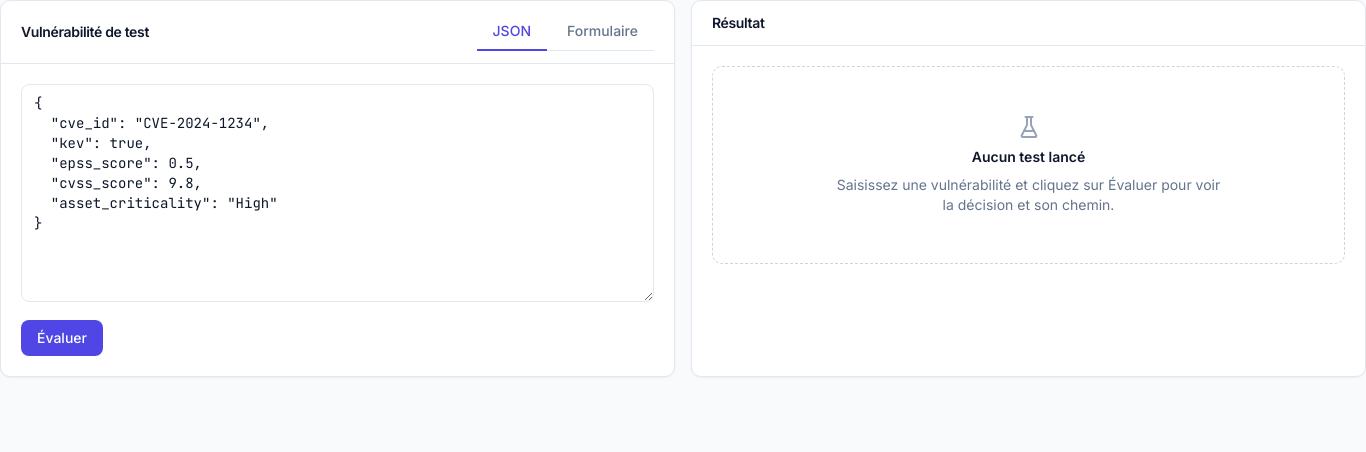
it: QuickTest › affiche une Alert sur JSON invalide sans appeler l API
This screenshot has width=1366, height=452.
Replace the text in the text box with "pas du json" at (338, 193), box [21, 84, 654, 302]
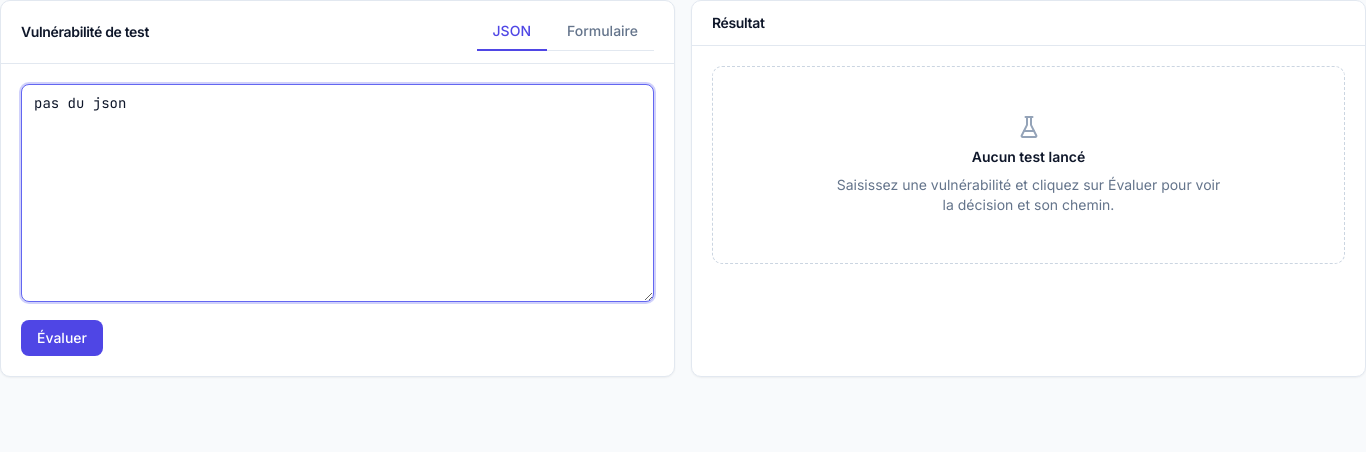
Click the button "Évaluer" at (62, 338), box [21, 320, 103, 356]
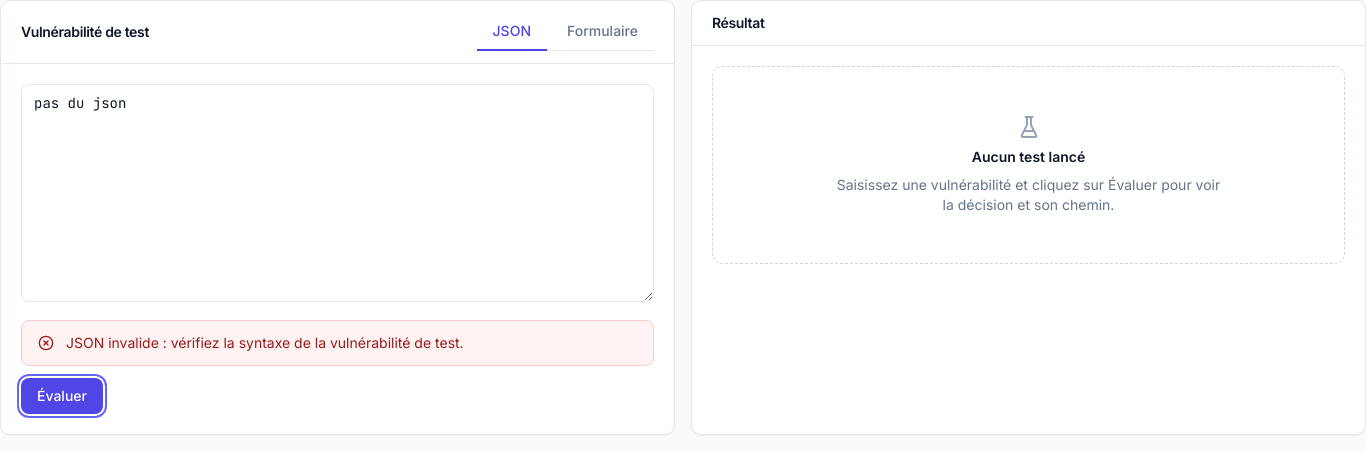
Check: the message shows "JSON invalide", box [66, 334, 464, 351]
